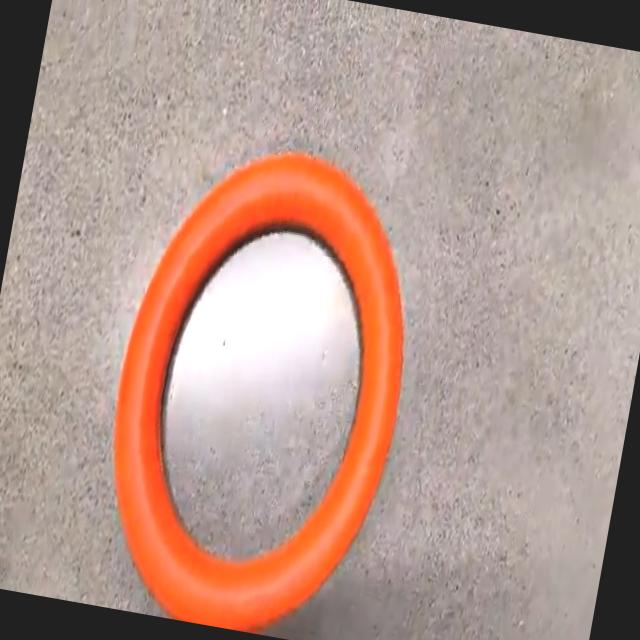note: (113, 153, 403, 629)
